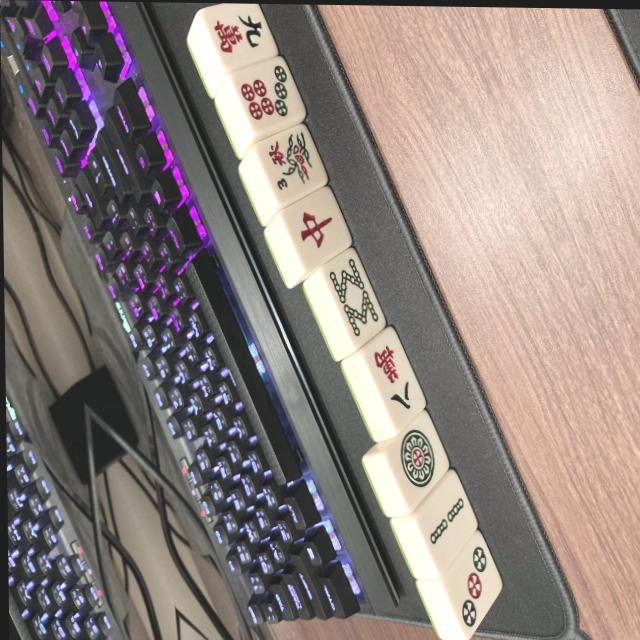ff3: (255, 124, 328, 206)
m8: (362, 330, 430, 429)
m9: (204, 3, 277, 71)
s2: (412, 473, 484, 575)
s8: (321, 249, 389, 345)
t1: (382, 411, 455, 512)
t3: (440, 531, 507, 640)
t7: (232, 58, 307, 138)
zhong: (280, 187, 355, 273)
